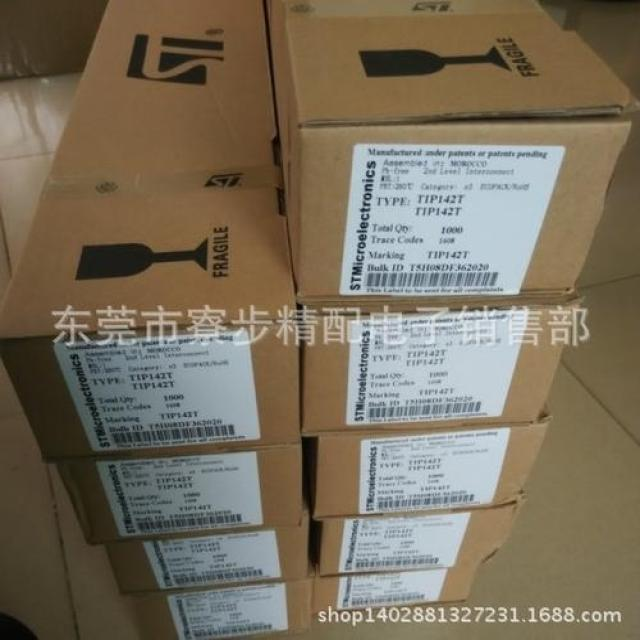box: (0, 0, 302, 462), (264, 1, 639, 303), (299, 300, 578, 437), (313, 419, 552, 522), (54, 446, 301, 544), (106, 499, 310, 595), (318, 501, 525, 579), (126, 580, 315, 639), (310, 568, 476, 615)
